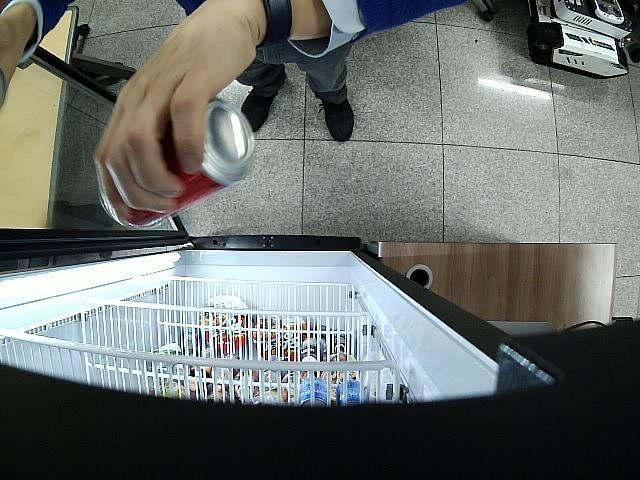11_cocaColaZero: (102, 100, 256, 230)
